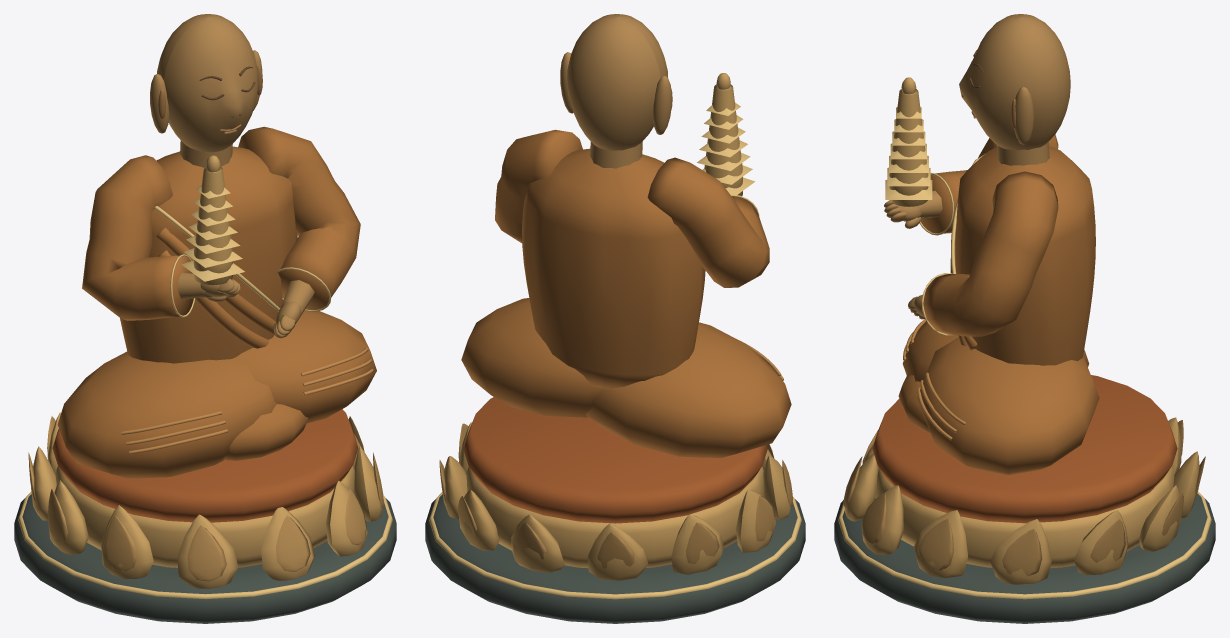
File: arhat_11_lod1.glb
3 views of the same model, side by side, from view 1: azimuth 30°, elevation 25°; view 2: azimuth 150°, elevation 25°; view 3: azimuth 270°, elevation 25° (orthographic).
Parts seen in each view (by area): view 1: arhat_11_ArhatDrapery, arhat_11_AntiqueGold, arhat_11_CarvedPlinth, arhat_11_SaffronDrapery, arhat_11_WarmBronze, arhat_11_GoldPetalRelief, arhat_11_RaisedGoldBorders, arhat_11_DraperyFoldHighlights; view 2: arhat_11_ArhatDrapery, arhat_11_SaffronDrapery, arhat_11_AntiqueGold, arhat_11_CarvedPlinth, arhat_11_WarmBronze, arhat_11_RaisedGoldBorders, arhat_11_GoldPetalRelief; view 3: arhat_11_ArhatDrapery, arhat_11_SaffronDrapery, arhat_11_AntiqueGold, arhat_11_CarvedPlinth, arhat_11_WarmBronze, arhat_11_GoldPetalRelief, arhat_11_RaisedGoldBorders, arhat_11_DraperyFoldHighlights.
Part boxes in pixels (left/top/right/bottom): arhat_11_ArhatDrapery: left=57, top=126, right=376, bottom=478; arhat_11_AntiqueGold: left=31, top=155, right=383, bottom=588; arhat_11_CarvedPlinth: left=14, top=494, right=396, bottom=623; arhat_11_SaffronDrapery: left=52, top=409, right=358, bottom=522; arhat_11_WarmBronze: left=150, top=14, right=314, bottom=338; arhat_11_GoldPetalRelief: left=28, top=416, right=383, bottom=581; arhat_11_RaisedGoldBorders: left=18, top=185, right=392, bottom=599; arhat_11_DraperyFoldHighlights: left=121, top=347, right=373, bottom=454; arhat_11_ArhatDrapery: left=461, top=129, right=791, bottom=457; arhat_11_SaffronDrapery: left=463, top=397, right=767, bottom=523; arhat_11_AntiqueGold: left=441, top=73, right=792, bottom=580; arhat_11_CarvedPlinth: left=425, top=494, right=805, bottom=623; arhat_11_WarmBronze: left=560, top=14, right=671, bottom=168; arhat_11_RaisedGoldBorders: left=429, top=102, right=801, bottom=599; arhat_11_GoldPetalRelief: left=439, top=423, right=792, bottom=568; arhat_11_ArhatDrapery: left=898, top=134, right=1099, bottom=475; arhat_11_SaffronDrapery: left=872, top=375, right=1177, bottom=523; arhat_11_AntiqueGold: left=844, top=77, right=1199, bottom=584; arhat_11_CarvedPlinth: left=834, top=493, right=1215, bottom=623; arhat_11_WarmBronze: left=884, top=14, right=1070, bottom=319; arhat_11_GoldPetalRelief: left=843, top=420, right=1205, bottom=576; arhat_11_RaisedGoldBorders: left=838, top=107, right=1211, bottom=599; arhat_11_DraperyFoldHighlights: left=903, top=319, right=965, bottom=440.
Size of the model in its own units: 0.92 by 1.41 by 0.92.
